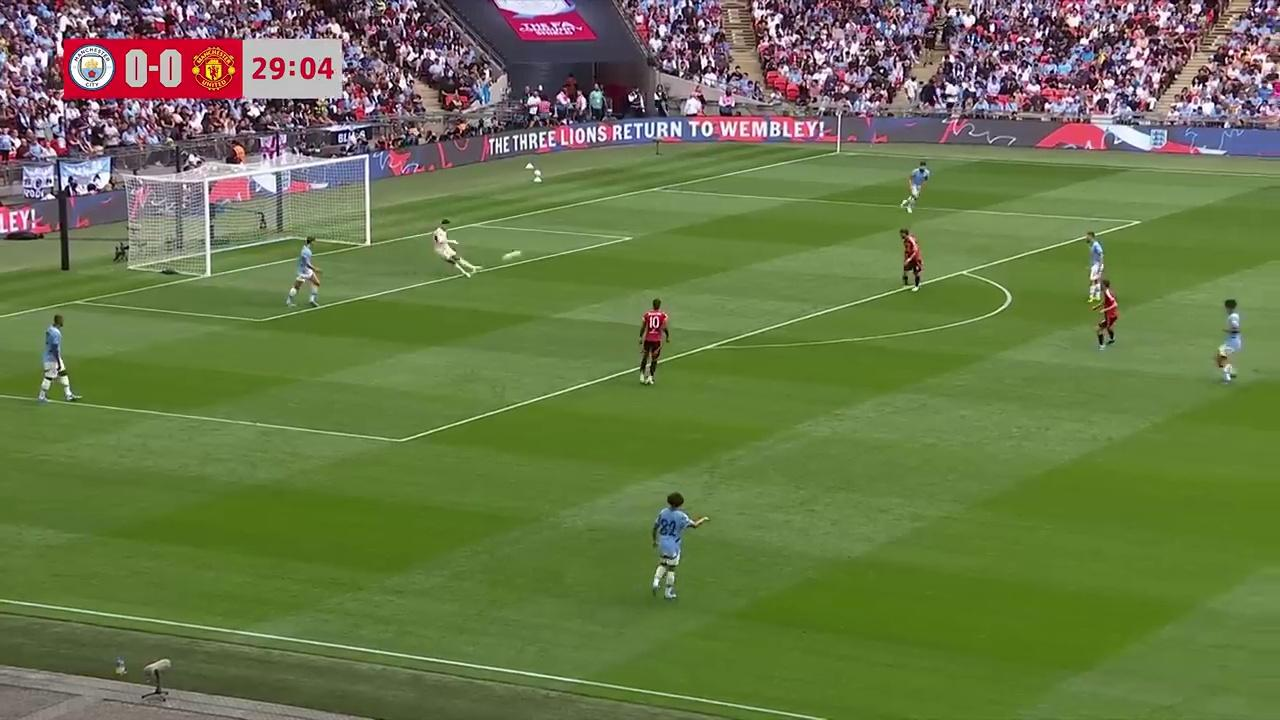ball: (502, 247, 520, 260)
player: (650, 491, 708, 599), (37, 313, 77, 403), (433, 222, 478, 286), (638, 299, 669, 385), (1213, 296, 1243, 383), (286, 237, 322, 308), (1095, 280, 1119, 349), (1085, 232, 1106, 303), (900, 228, 923, 291), (904, 161, 930, 210)
